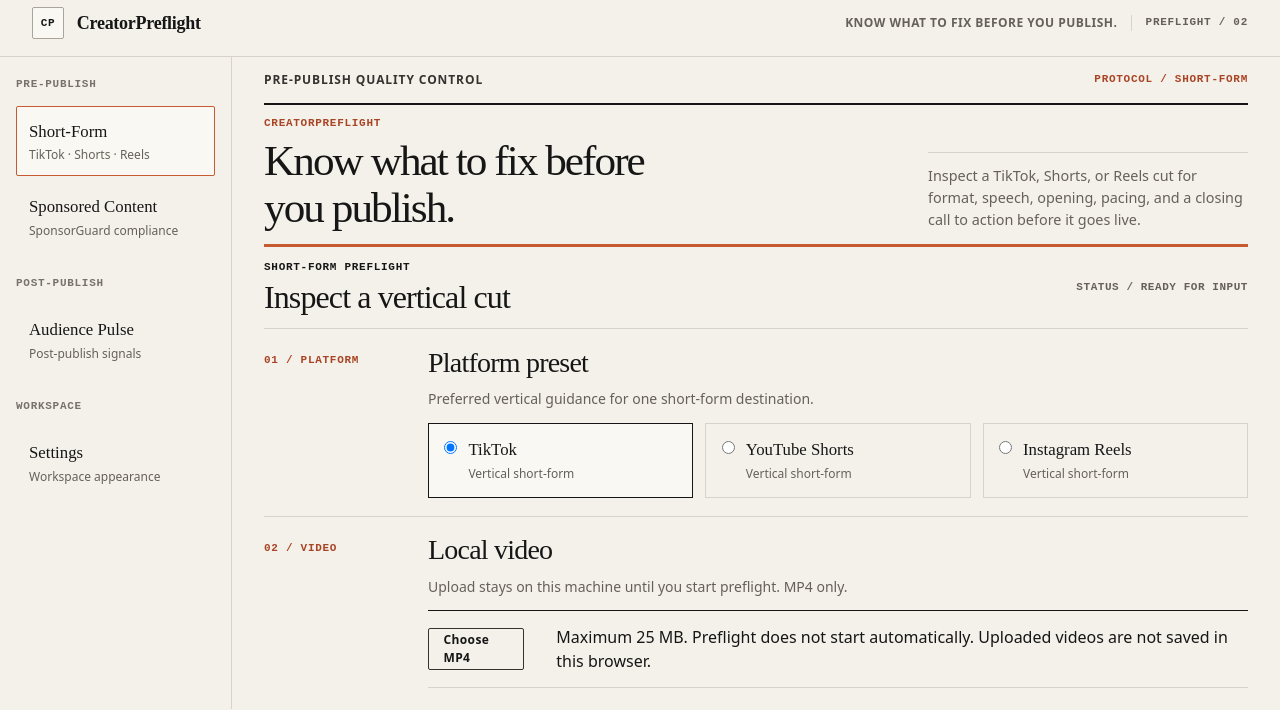
Scenario: CreatorPreflight shell › opens on Short-Form and keeps Sponsored Content accessible
Expected: the navigation bar named "CreatorPreflight" is shown, [0,57,232,709]
Expected: the text "CreatorPreflight" is shown, [77,10,201,37]
What coordinates should you click on to do the following:
click the button "Sponsored Content SponsorGuard compliance"
I would click on:
 (116, 217)
Its box is [16,182,215,252].
(page scrolled)
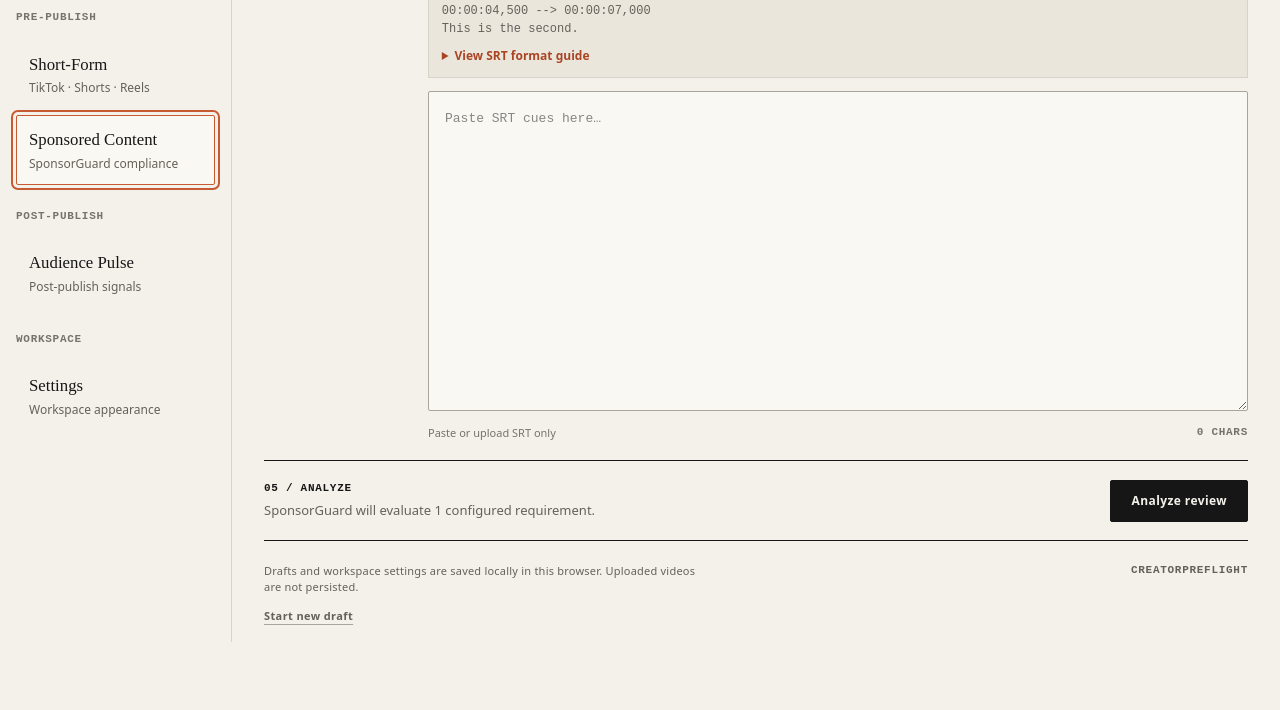
Expected: the heading "Know what to fix before you publish." is not shown
Expected: the button "Analyze review" is shown, [1110,480,1248,522]
